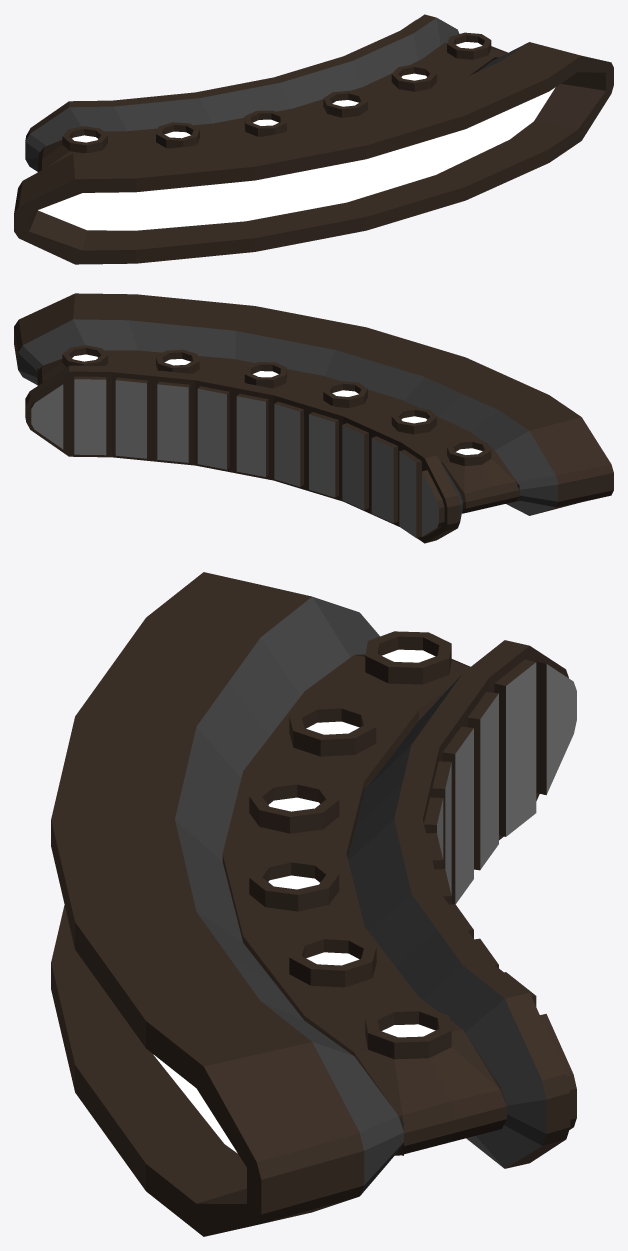
Rendered from cyber_booster.glb.
3 renders of one model, top to bottom at view 1: azimuth 30°, elevation 25°; view 2: azimuth 150°, elevation 25°; view 3: azimuth 270°, elevation 25°, orthographic. The views are drawn at different scales.
Parts seen in each view (by area): view 1: CyberBooster; view 2: CyberBooster; view 3: CyberBooster.
Boxes of the visible parts, <box> form: CyberBooster: <box>14,14,613,264</box>; CyberBooster: <box>14,293,613,543</box>; CyberBooster: <box>51,572,576,1236</box>.
Size of the model in its own units: 1.8 by 0.2448 by 0.6842.
Materials: 1 (1 with a texture image).
